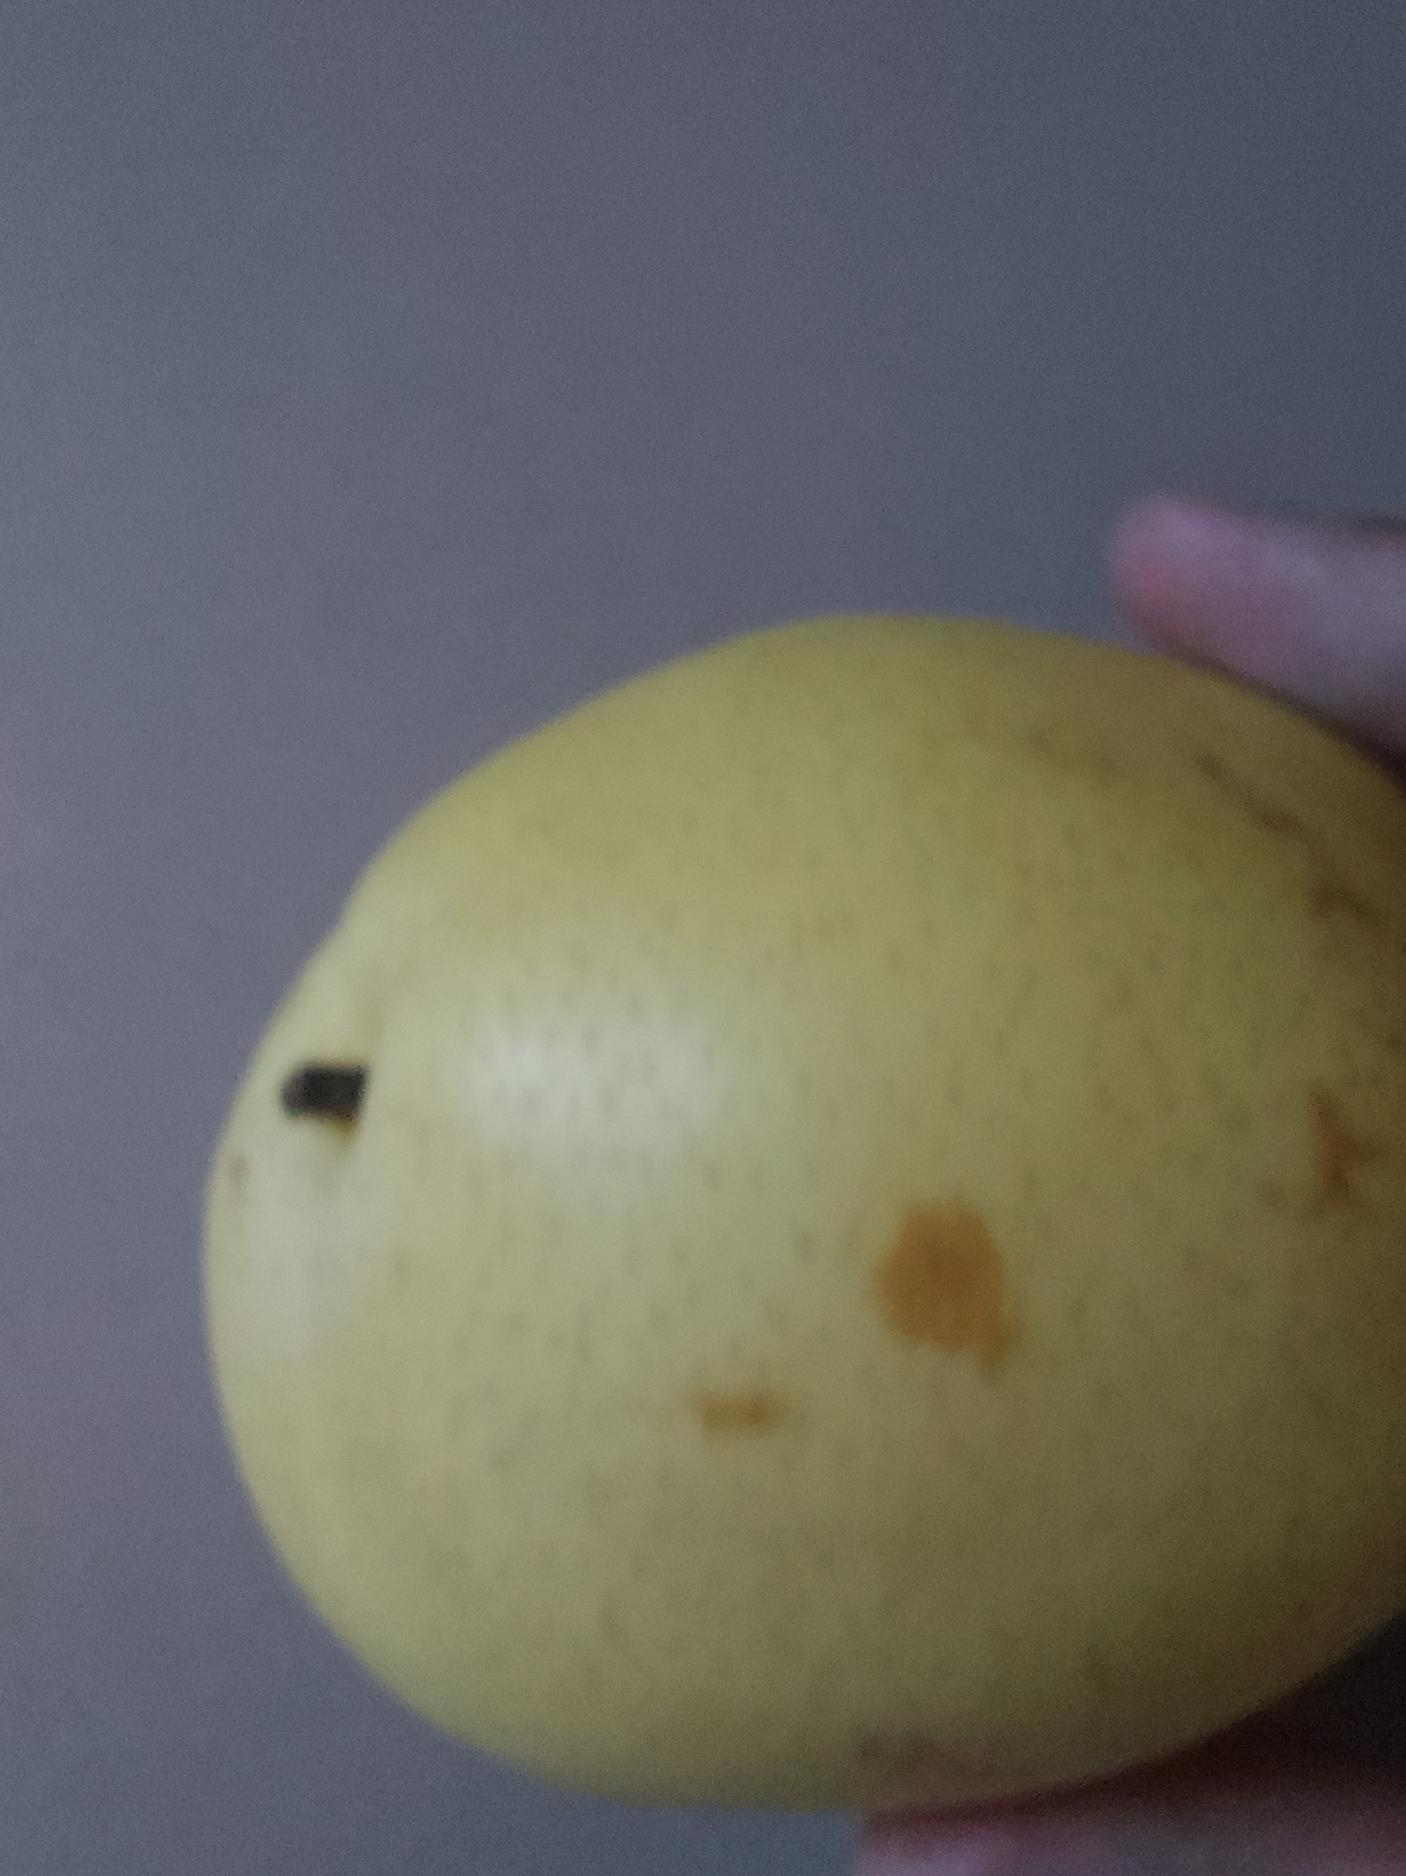Good Pear: (196, 586, 1406, 1817)
